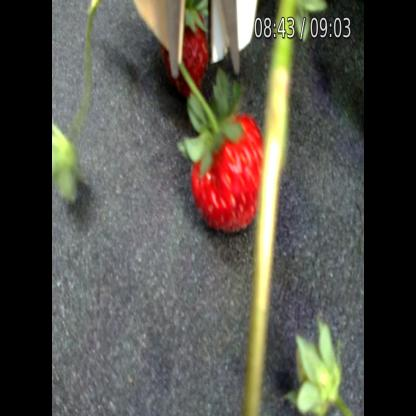ripe: (180, 110, 285, 233), (168, 9, 212, 88)
